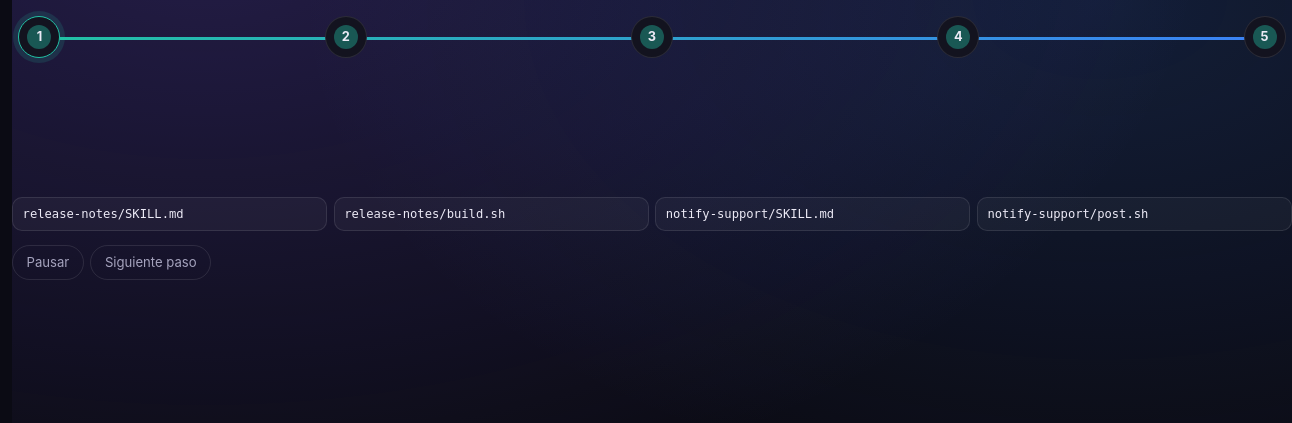
Test case: SkillLoader › avanza paso a paso al pulsar el control
This screenshot has width=1292, height=423.
Step 1. Click the button "Pausar" → (48, 262), box [12,245,84,280]
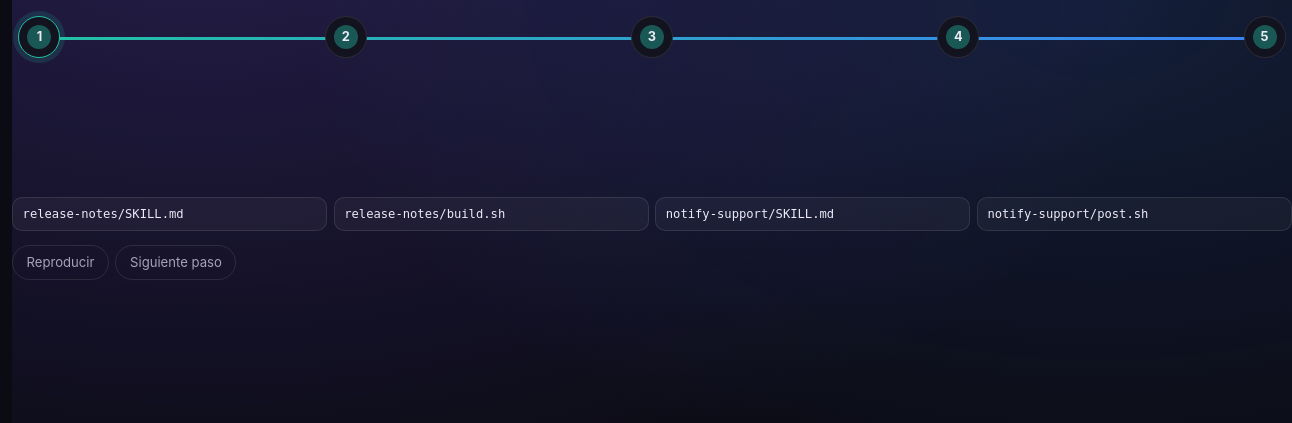
Step 2. Click the button "Siguiente paso" → (176, 262), box [116,245,236,280]
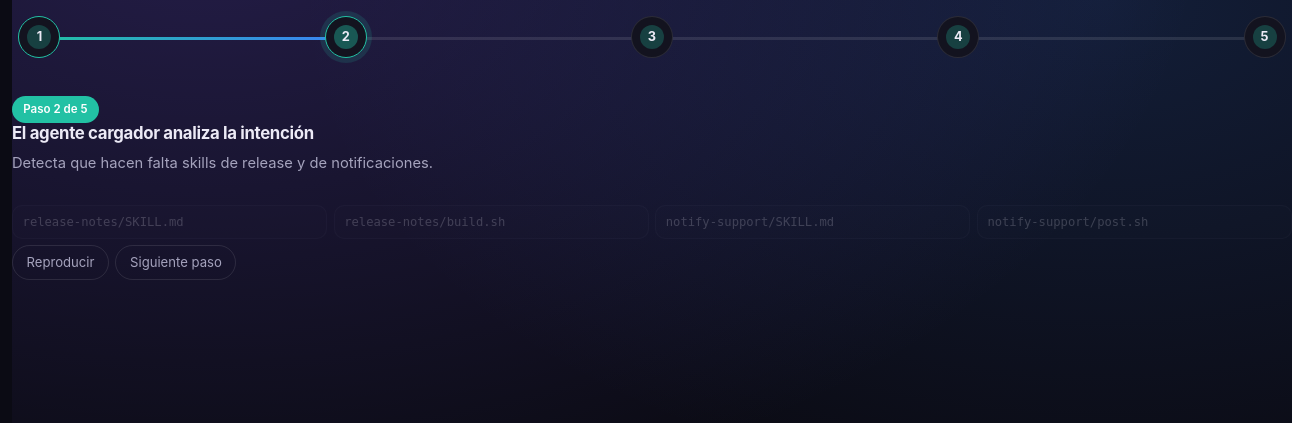
Check: the heading "El agente cargador analiza la intención" is shown, box [12,122,314,142]
